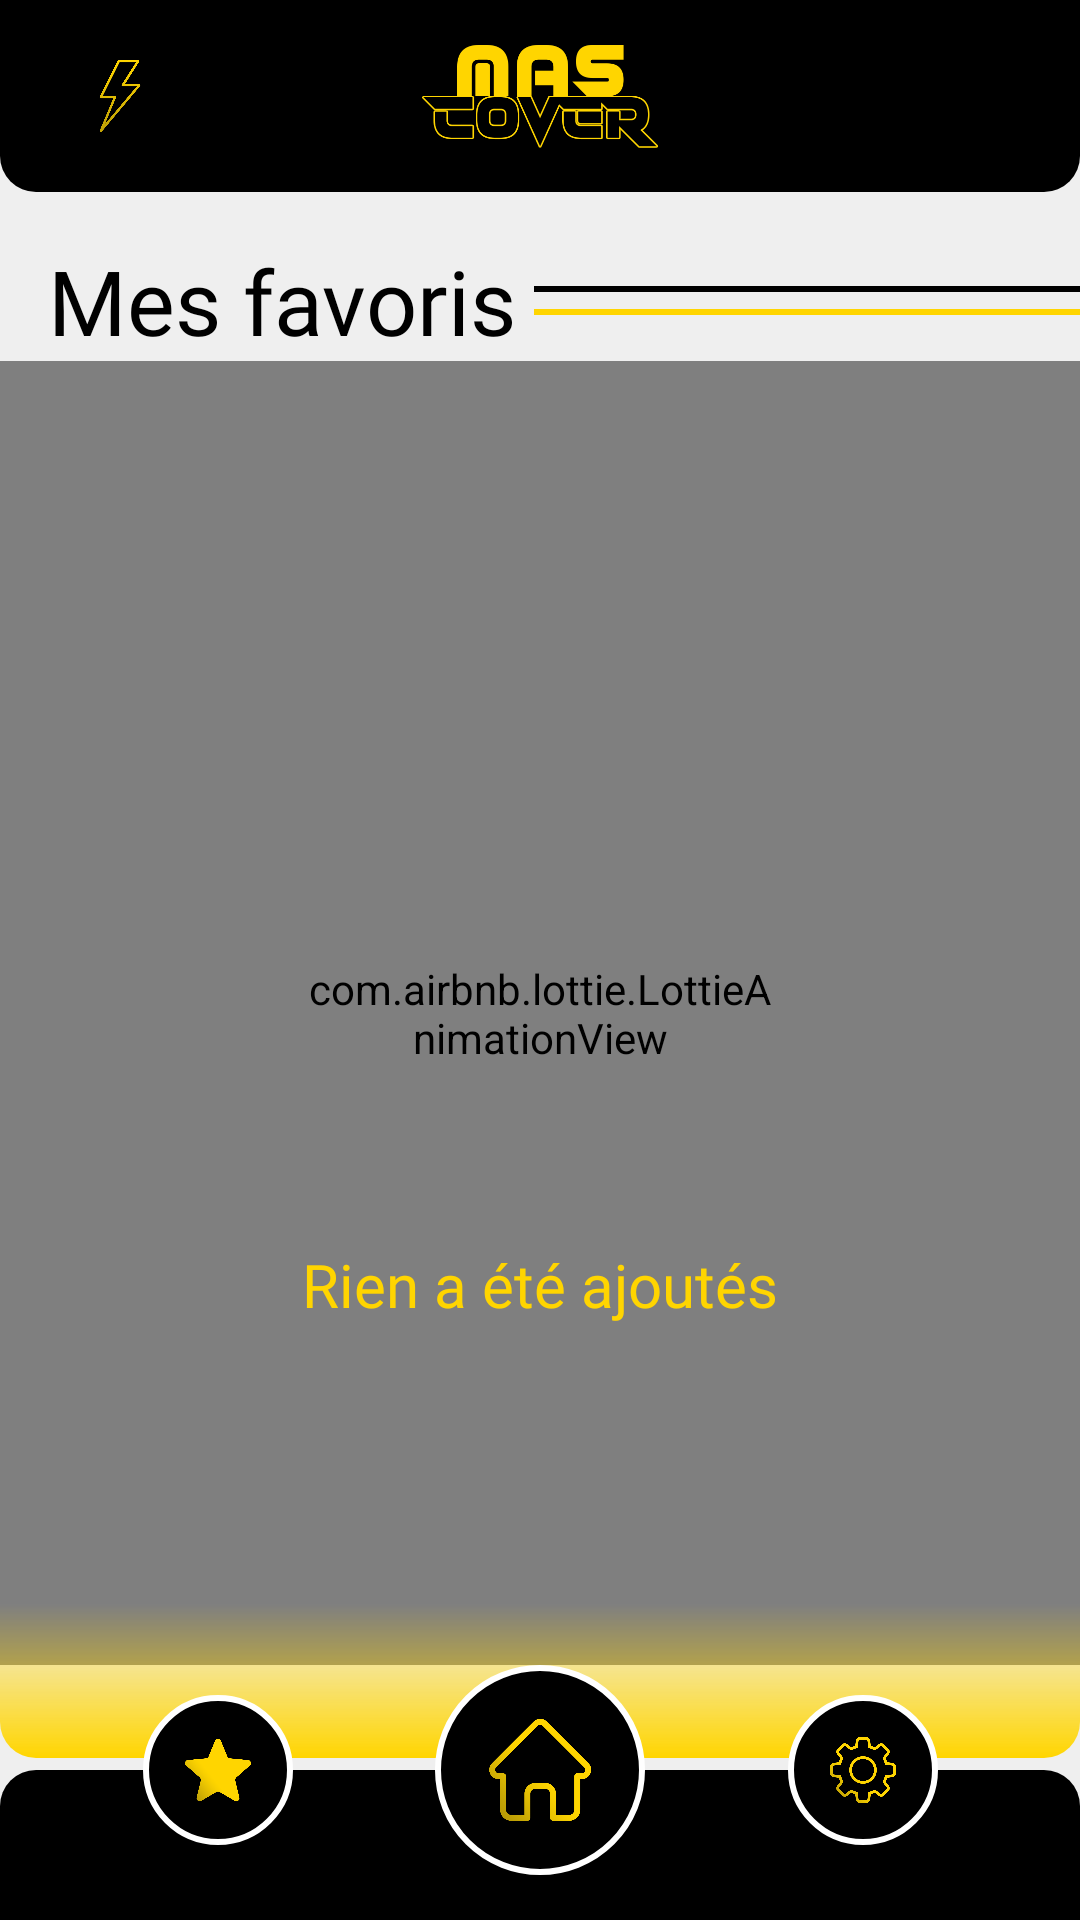

Icon click points for this 1080x1920 phone screenshot, format [x,y]:
accueil: [540,1770]
flash empty: [120,96]
settings: [863,1770]
star: [218,1770]
